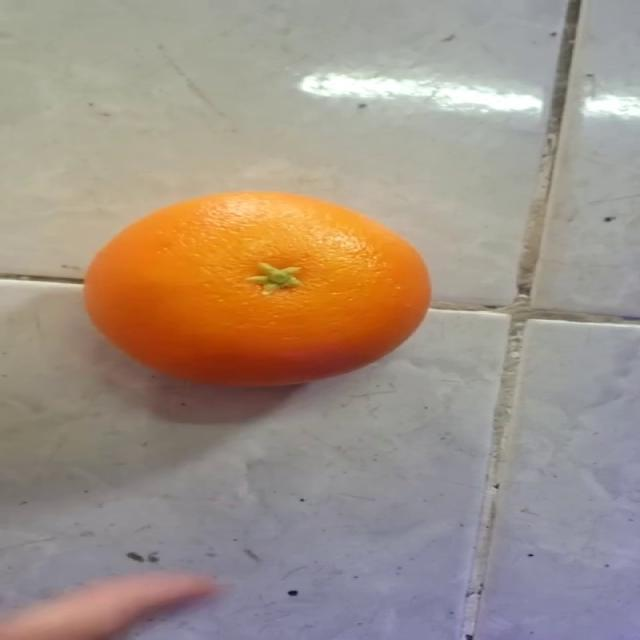Orange: (82, 188, 432, 389)
